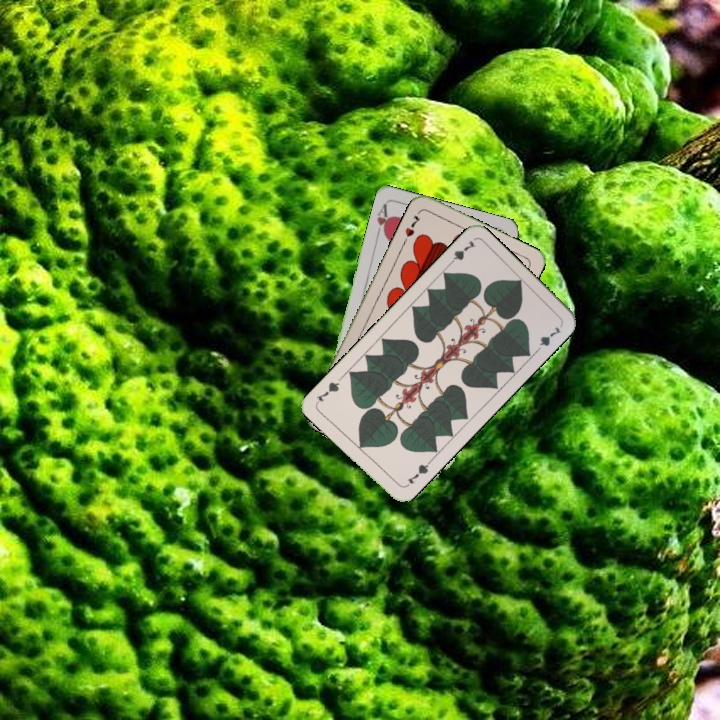G7: (444, 236, 478, 269), (401, 457, 433, 490)
H7: (401, 211, 423, 240)
HA: (372, 200, 393, 240)
